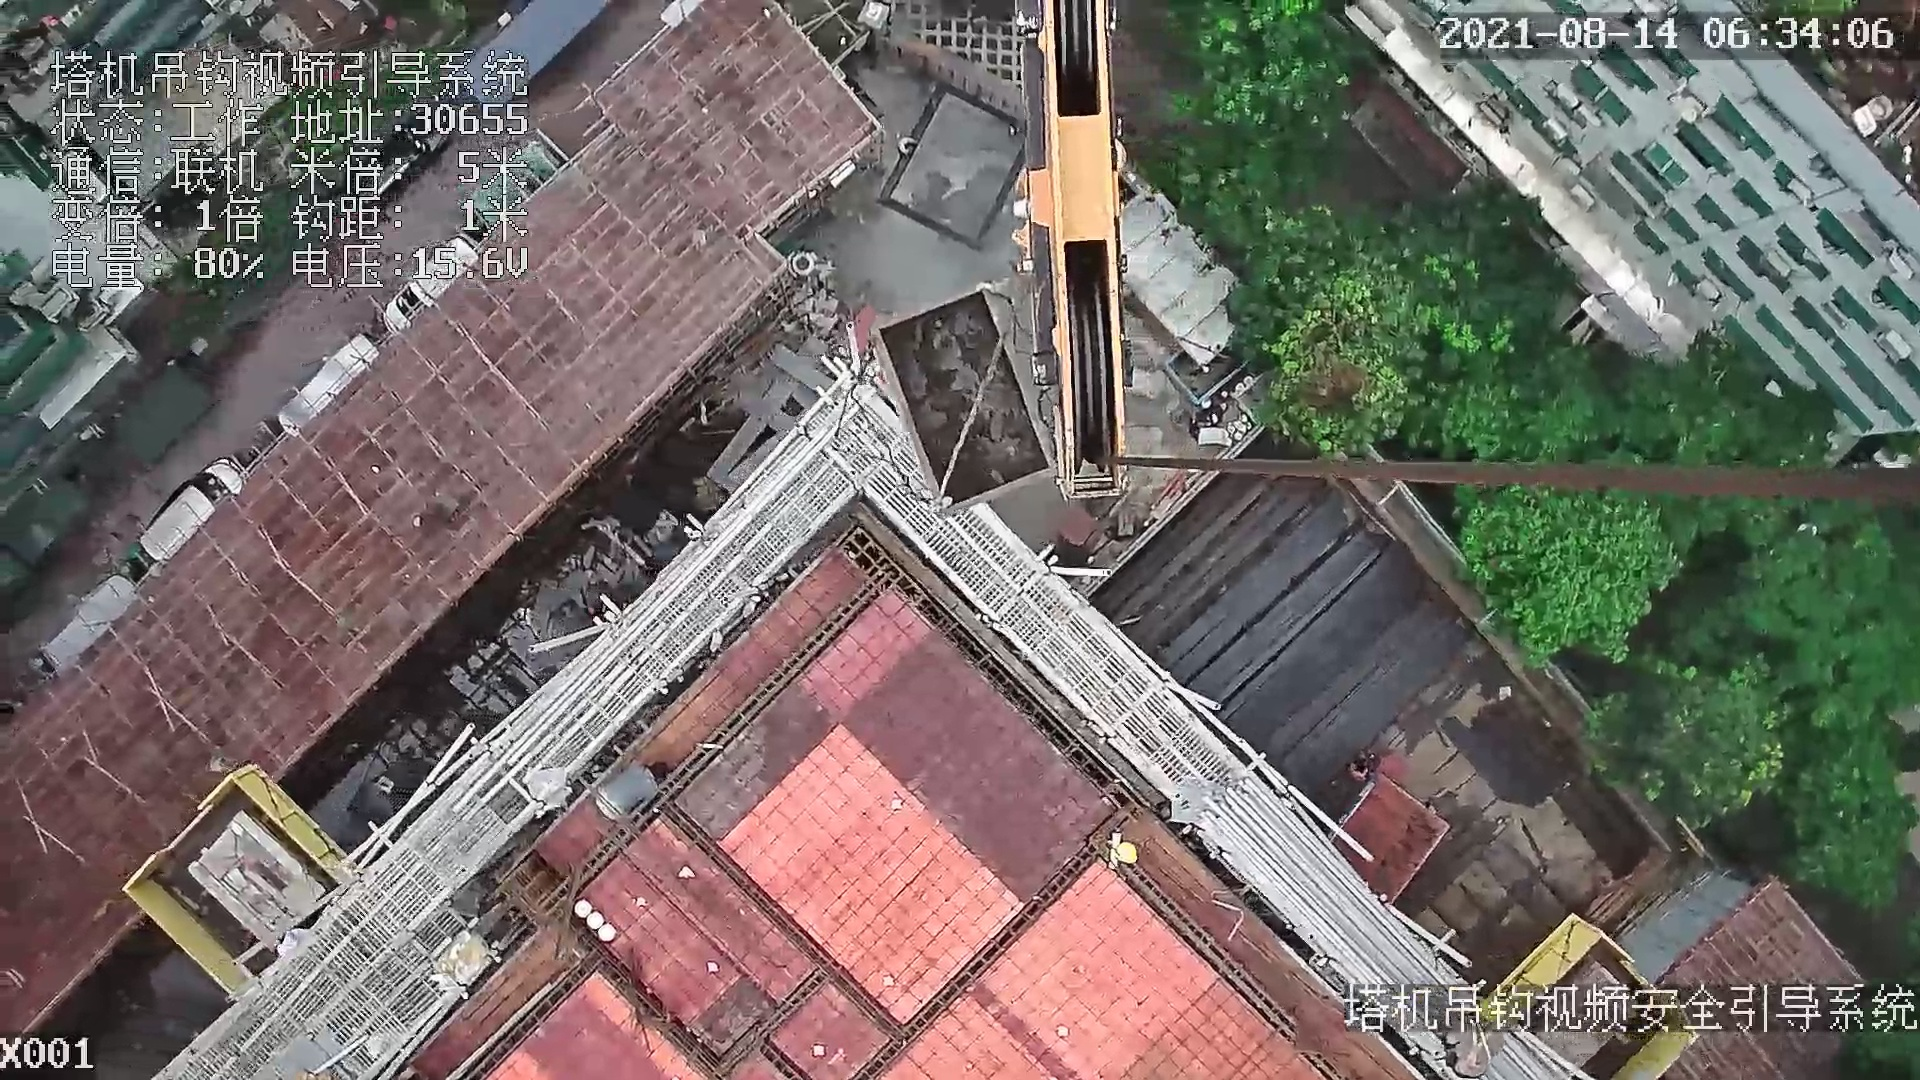helmet: (1113, 840, 1139, 866)
hook: (1001, 1, 1139, 501)
hopper: (865, 280, 1068, 527)
rebar: (1147, 485, 1425, 742)
